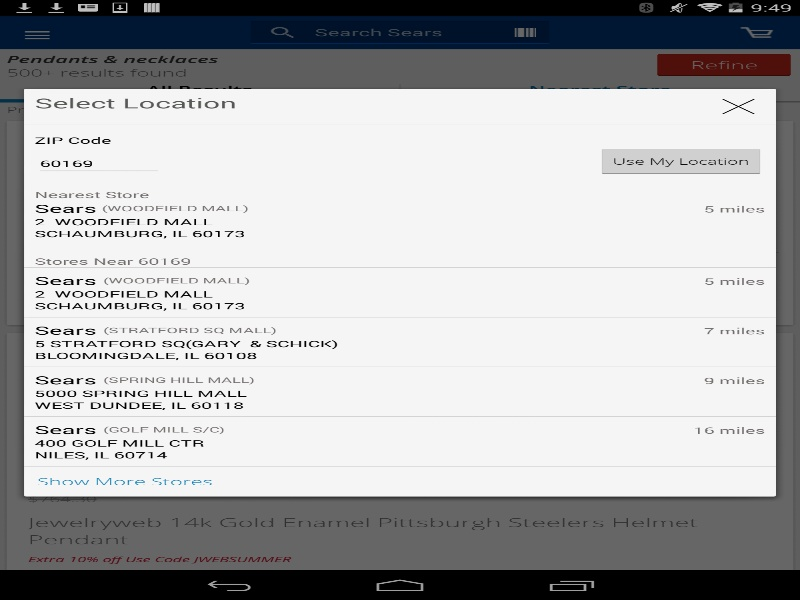Button: (24, 466, 225, 496), (596, 146, 765, 176)
Input: (34, 151, 163, 176)
